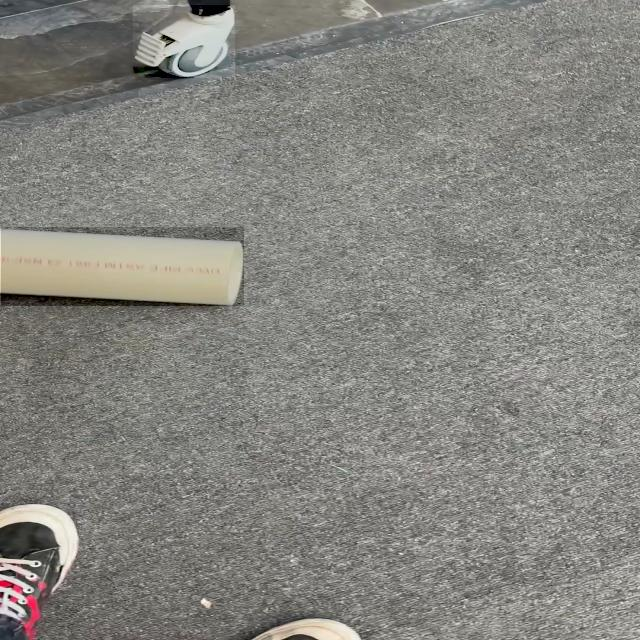Coral: (1, 227, 244, 306), (133, 5, 235, 78)
